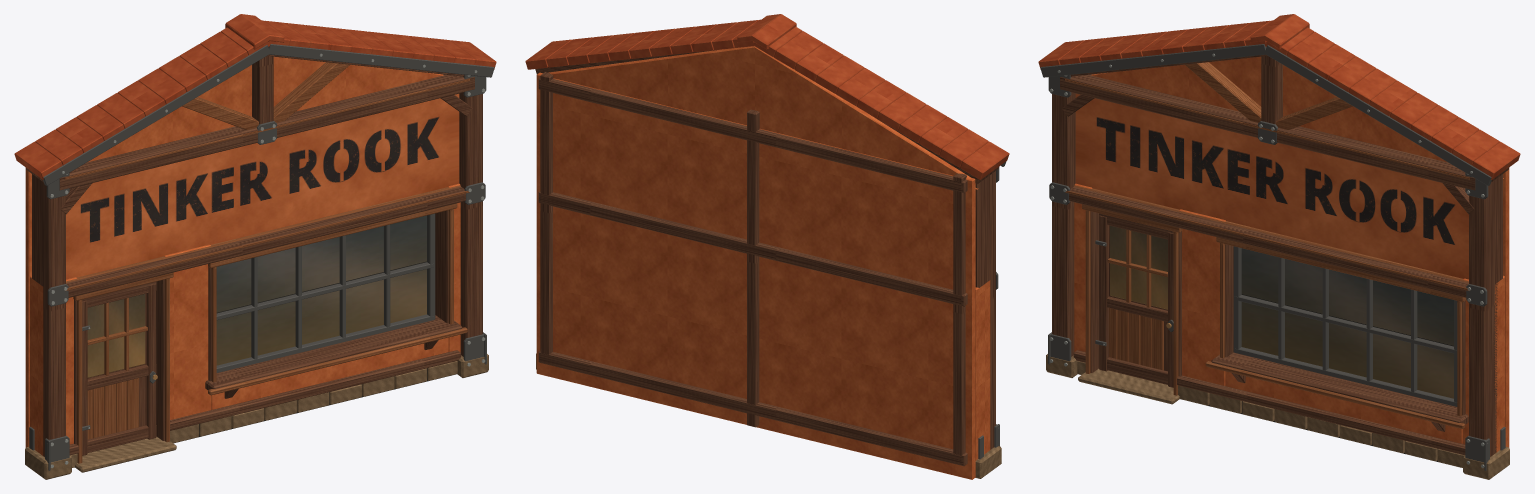
File: wsc-prop-022-tinker-rook.glb
3 renders of one model, left to right at view 1: azimuth 30°, elevation 25°; view 2: azimuth 150°, elevation 25°; view 3: azimuth 330°, elevation 25°, orthographic.
Parts seen in each view (by area): view 1: WSC-PROP-022 | Tinker Rook facade; view 2: WSC-PROP-022 | Tinker Rook facade; view 3: WSC-PROP-022 | Tinker Rook facade.
Part boxes in pixels (x1,y1,x2,y2): WSC-PROP-022 | Tinker Rook facade: (14, 14, 496, 479); WSC-PROP-022 | Tinker Rook facade: (525, 14, 1009, 479); WSC-PROP-022 | Tinker Rook facade: (1038, 14, 1520, 479).
Bounding box in the file's own units: 7.06 × 5.81 × 0.823.
Materials: 12 (8 with a texture image).
